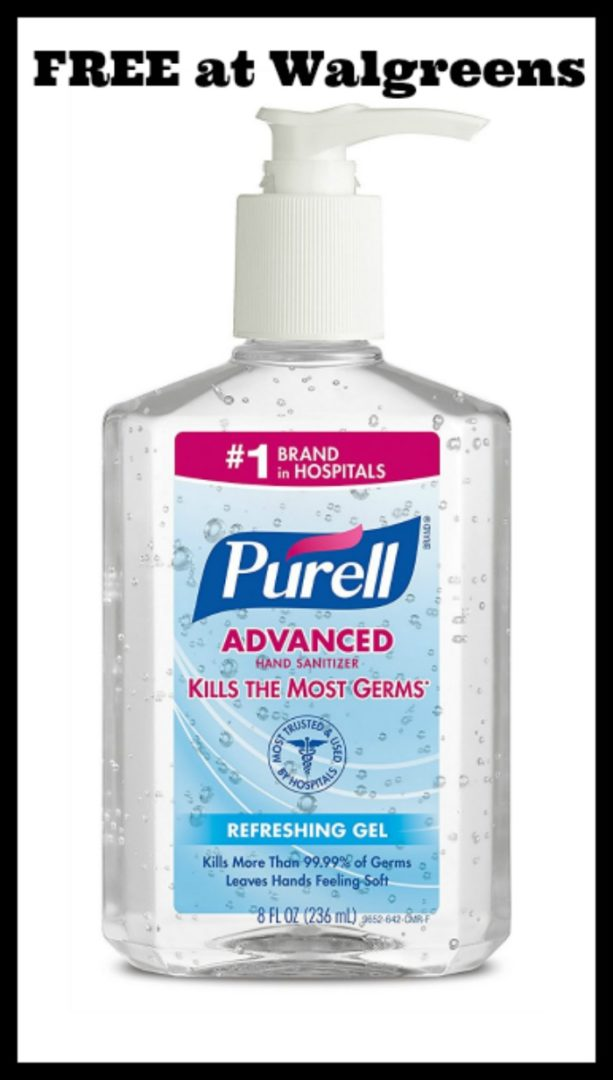Sanitizer: (86, 95, 528, 990)
